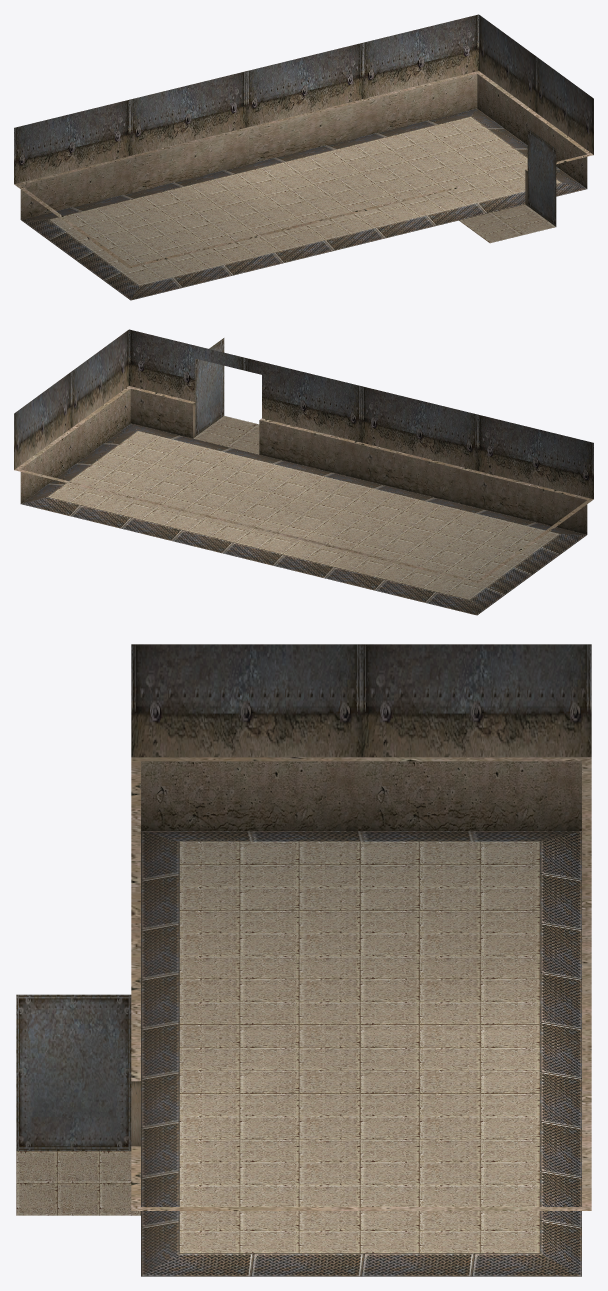
File: M11Z1_MissileBunker_Int.glb
3 renders of one model, top to bottom at view 1: azimuth 30°, elevation 25°; view 2: azimuth 150°, elevation 25°; view 3: azimuth 270°, elevation 25°, orthographic. The views are drawn at different scales.
Parts seen in each view (by area): view 1: M11Z1_MISSILEBUNKER_INT; view 2: M11Z1_MISSILEBUNKER_INT; view 3: M11Z1_MISSILEBUNKER_INT.
Part boxes in pixels (x1,y1,x2,y2): M11Z1_MISSILEBUNKER_INT: (14, 14, 593, 300); M11Z1_MISSILEBUNKER_INT: (14, 329, 593, 615); M11Z1_MISSILEBUNKER_INT: (16, 644, 591, 1276).
Size of the model in its own units: 14 by 2.62 by 7.5.
5 materials, 5 textured.
